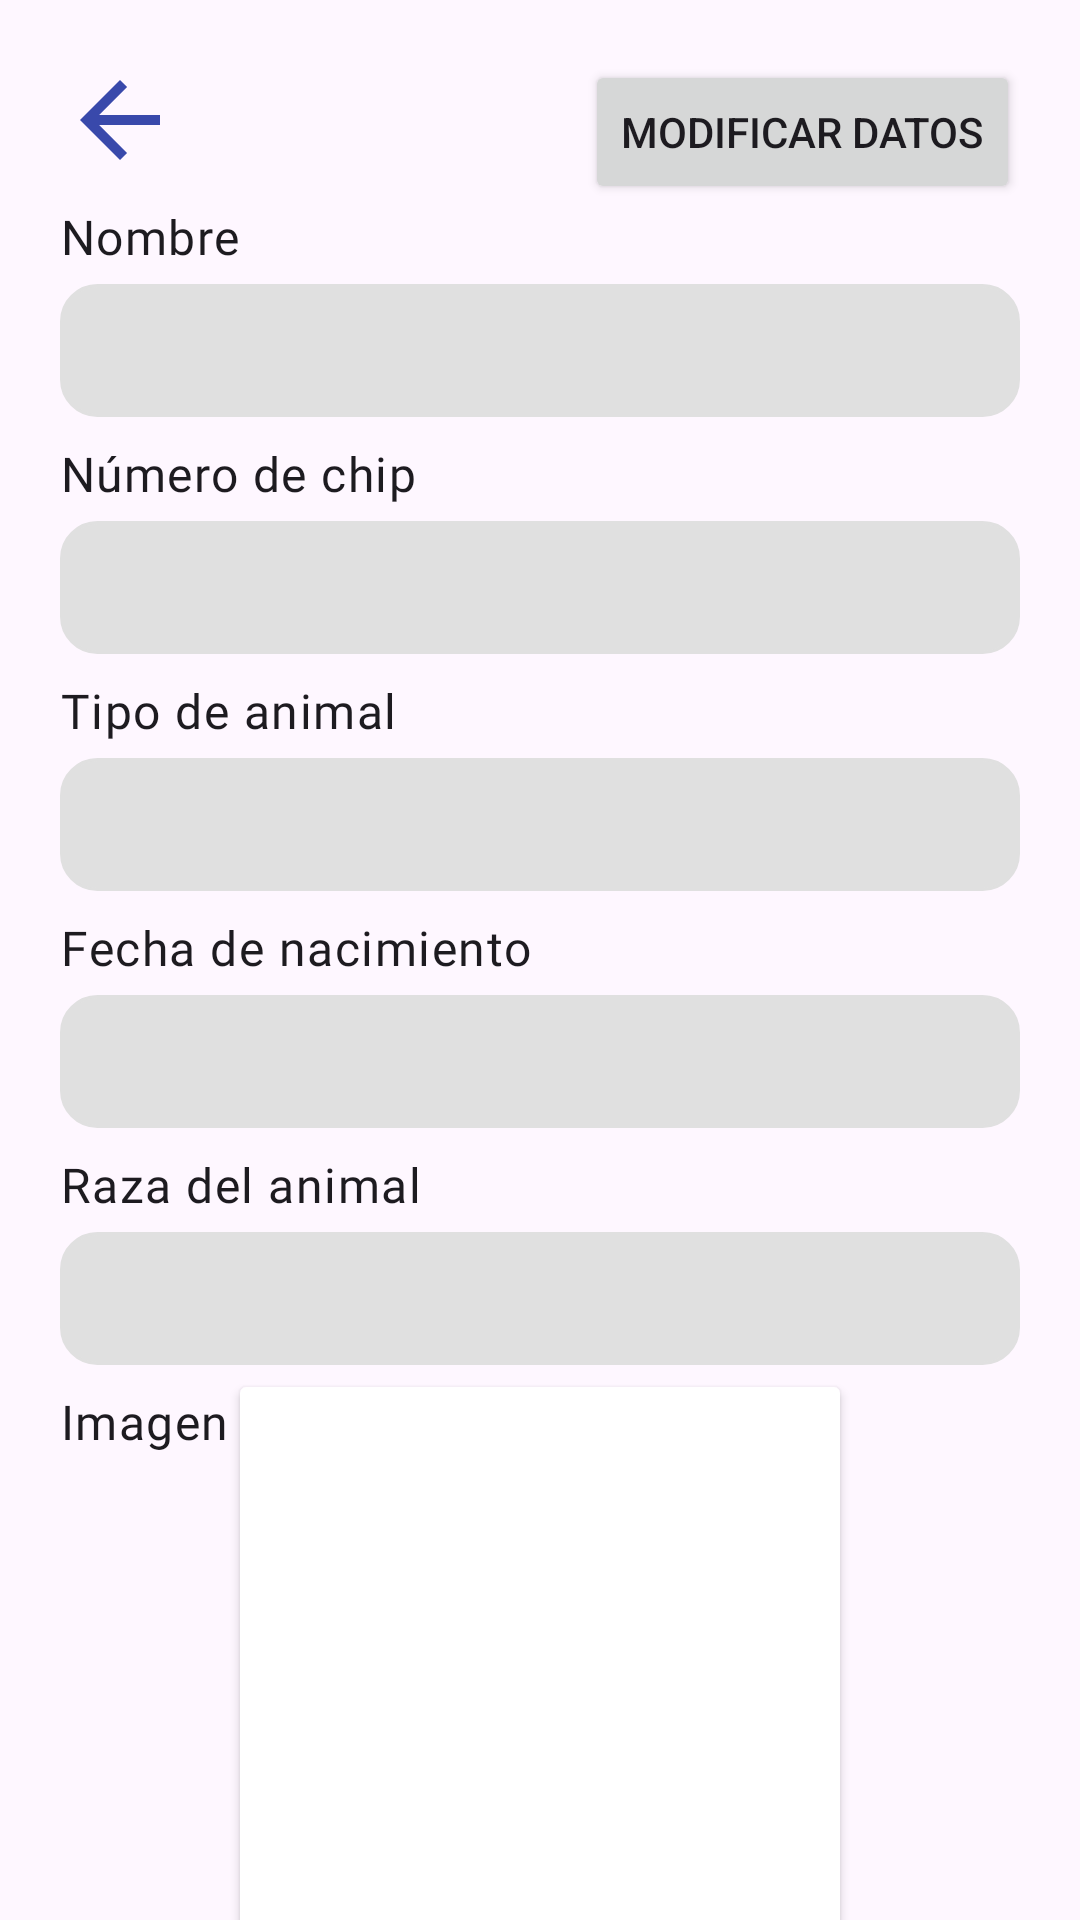

Where to tap for icons on this 1080px×1920px app screen, as [x,y]:
arrow back: [120,120]
